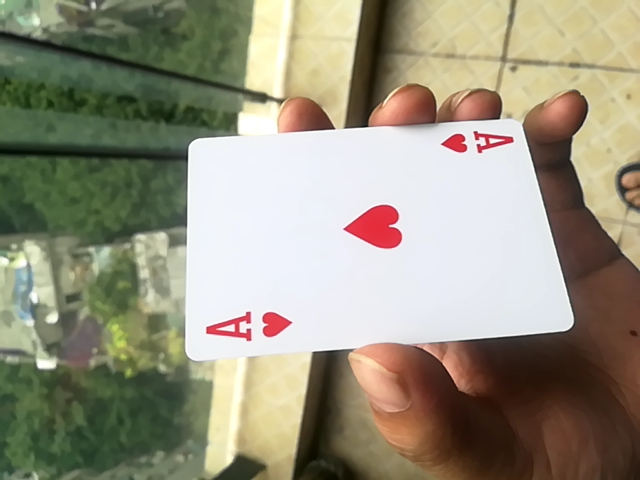hx a: (175, 110, 565, 365)
